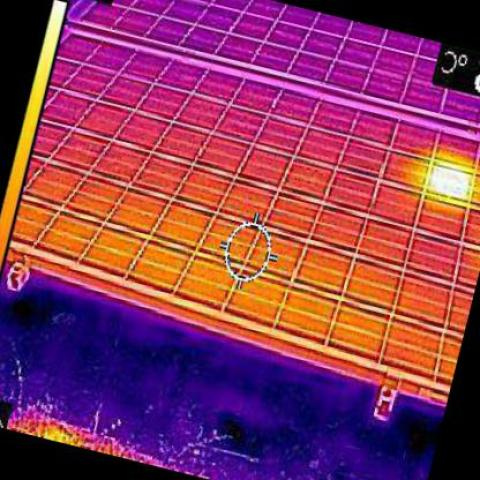fault: (424, 160, 473, 192)
